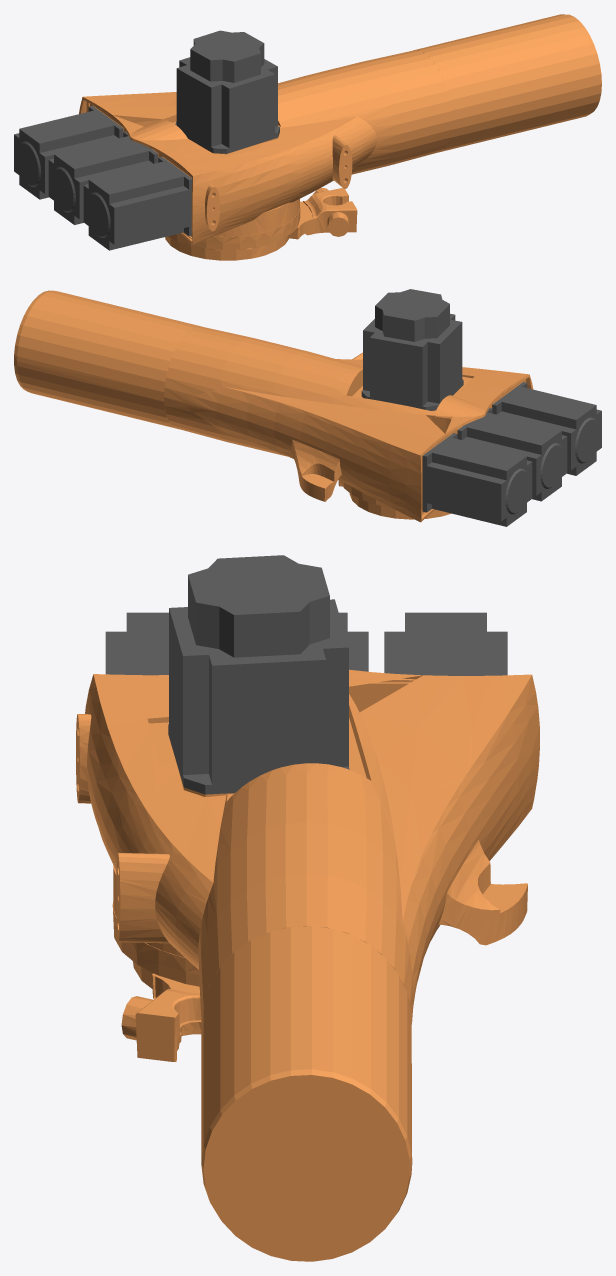
3 views of the same model, one above another, from view 1: azimuth 30°, elevation 25°; view 2: azimuth 150°, elevation 25°; view 3: azimuth 270°, elevation 25° (orthographic). The views are drawn at different scales.
Visible parts, largest first — view 1: /SketchUp/instance_0/ID4_005-mesh/0, /SketchUp/instance_0_007/ID48_002-mesh/0, /SketchUp/instance_0_011/ID74_004-mesh/1, /SketchUp/instance_0_009/ID62_004-mesh/1, /SketchUp/instance_0_013/ID86_004-mesh/1, /SketchUp/instance_0_015/ID98_004-mesh/1, /SketchUp/instance_0_010/ID68_004-mesh/1, /SketchUp/instance_0_008/ID54_001-mesh/1, /SketchUp/instance_0_014/ID92_004-mesh/1, /SketchUp/instance_0_012/ID80_004-mesh/1; view 2: /SketchUp/instance_0/ID4_005-mesh/0, /SketchUp/instance_0_007/ID48_002-mesh/0, /SketchUp/instance_0_013/ID86_004-mesh/1, /SketchUp/instance_0_011/ID74_004-mesh/1, /SketchUp/instance_0_009/ID62_004-mesh/1, /SketchUp/instance_0_015/ID98_004-mesh/1, /SketchUp/instance_0_010/ID68_004-mesh/1, /SketchUp/instance_0_012/ID80_004-mesh/1, /SketchUp/instance_0_008/ID54_001-mesh/1, /SketchUp/instance_0_014/ID92_004-mesh/1; view 3: /SketchUp/instance_0/ID4_005-mesh/0, /SketchUp/instance_0_007/ID48_002-mesh/0, /SketchUp/instance_0_011/ID74_004-mesh/1, /SketchUp/instance_0_010/ID68_004-mesh/1, /SketchUp/instance_0_013/ID86_004-mesh/1, /SketchUp/instance_0_009/ID62_004-mesh/1, /SketchUp/instance_0_015/ID98_004-mesh/1.
Boxes of the visible parts, x1=… form: /SketchUp/instance_0/ID4_005-mesh/0: x1=79, y1=50, x2=451, y2=260; /SketchUp/instance_0_007/ID48_002-mesh/0: x1=414, y1=14, x2=601, y2=152; /SketchUp/instance_0_011/ID74_004-mesh/1: x1=175, y1=57, x2=279, y2=153; /SketchUp/instance_0_009/ID62_004-mesh/1: x1=83, y1=156, x2=192, y2=250; /SketchUp/instance_0_013/ID86_004-mesh/1: x1=14, y1=105, x2=123, y2=199; /SketchUp/instance_0_015/ID98_004-mesh/1: x1=48, y1=131, x2=158, y2=224; /SketchUp/instance_0_010/ID68_004-mesh/1: x1=190, y1=30, x2=264, y2=82; /SketchUp/instance_0_008/ID54_001-mesh/1: x1=86, y1=192, x2=110, y2=237; /SketchUp/instance_0_014/ID92_004-mesh/1: x1=51, y1=166, x2=75, y2=212; /SketchUp/instance_0_012/ID80_004-mesh/1: x1=17, y1=141, x2=41, y2=187; /SketchUp/instance_0/ID4_005-mesh/0: x1=164, y1=326, x2=533, y2=522; /SketchUp/instance_0_007/ID48_002-mesh/0: x1=14, y1=290, x2=199, y2=429; /SketchUp/instance_0_013/ID86_004-mesh/1: x1=422, y1=433, x2=532, y2=526; /SketchUp/instance_0_011/ID74_004-mesh/1: x1=361, y1=313, x2=463, y2=410; /SketchUp/instance_0_009/ID62_004-mesh/1: x1=492, y1=382, x2=601, y2=475; /SketchUp/instance_0_015/ID98_004-mesh/1: x1=457, y1=408, x2=567, y2=501; /SketchUp/instance_0_010/ID68_004-mesh/1: x1=375, y1=289, x2=449, y2=341; /SketchUp/instance_0_012/ID80_004-mesh/1: x1=505, y1=468, x2=529, y2=514; /SketchUp/instance_0_008/ID54_001-mesh/1: x1=574, y1=417, x2=598, y2=463; /SketchUp/instance_0_014/ID92_004-mesh/1: x1=540, y1=443, x2=564, y2=488; /SketchUp/instance_0/ID4_005-mesh/0: x1=76, y1=669, x2=539, y2=1061; /SketchUp/instance_0_007/ID48_002-mesh/0: x1=201, y1=926, x2=412, y2=1261; /SketchUp/instance_0_011/ID74_004-mesh/1: x1=168, y1=599, x2=349, y2=794; /SketchUp/instance_0_010/ID68_004-mesh/1: x1=188, y1=555, x2=329, y2=657; /SketchUp/instance_0_013/ID86_004-mesh/1: x1=384, y1=612, x2=507, y2=675; /SketchUp/instance_0_009/ID62_004-mesh/1: x1=105, y1=612, x2=168, y2=675; /SketchUp/instance_0_015/ID98_004-mesh/1: x1=339, y1=612, x2=368, y2=671.
Size of the model in its own units: 1.36 by 0.477 by 0.5336.
